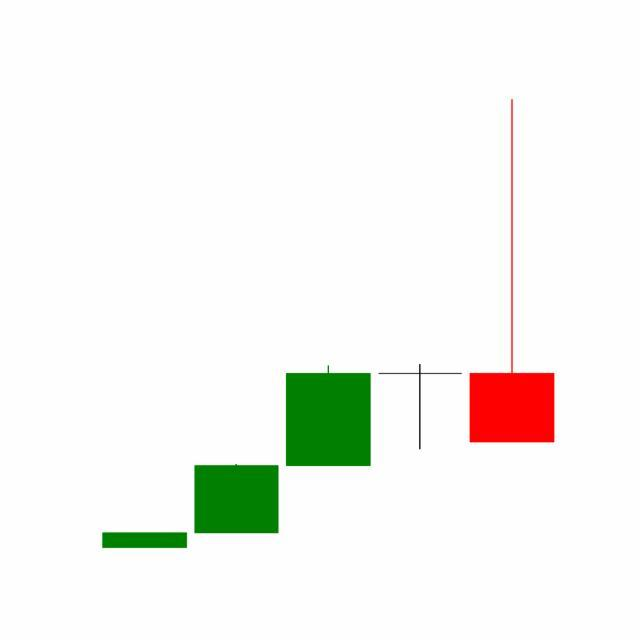Hanging Man: (374, 363, 468, 452)
